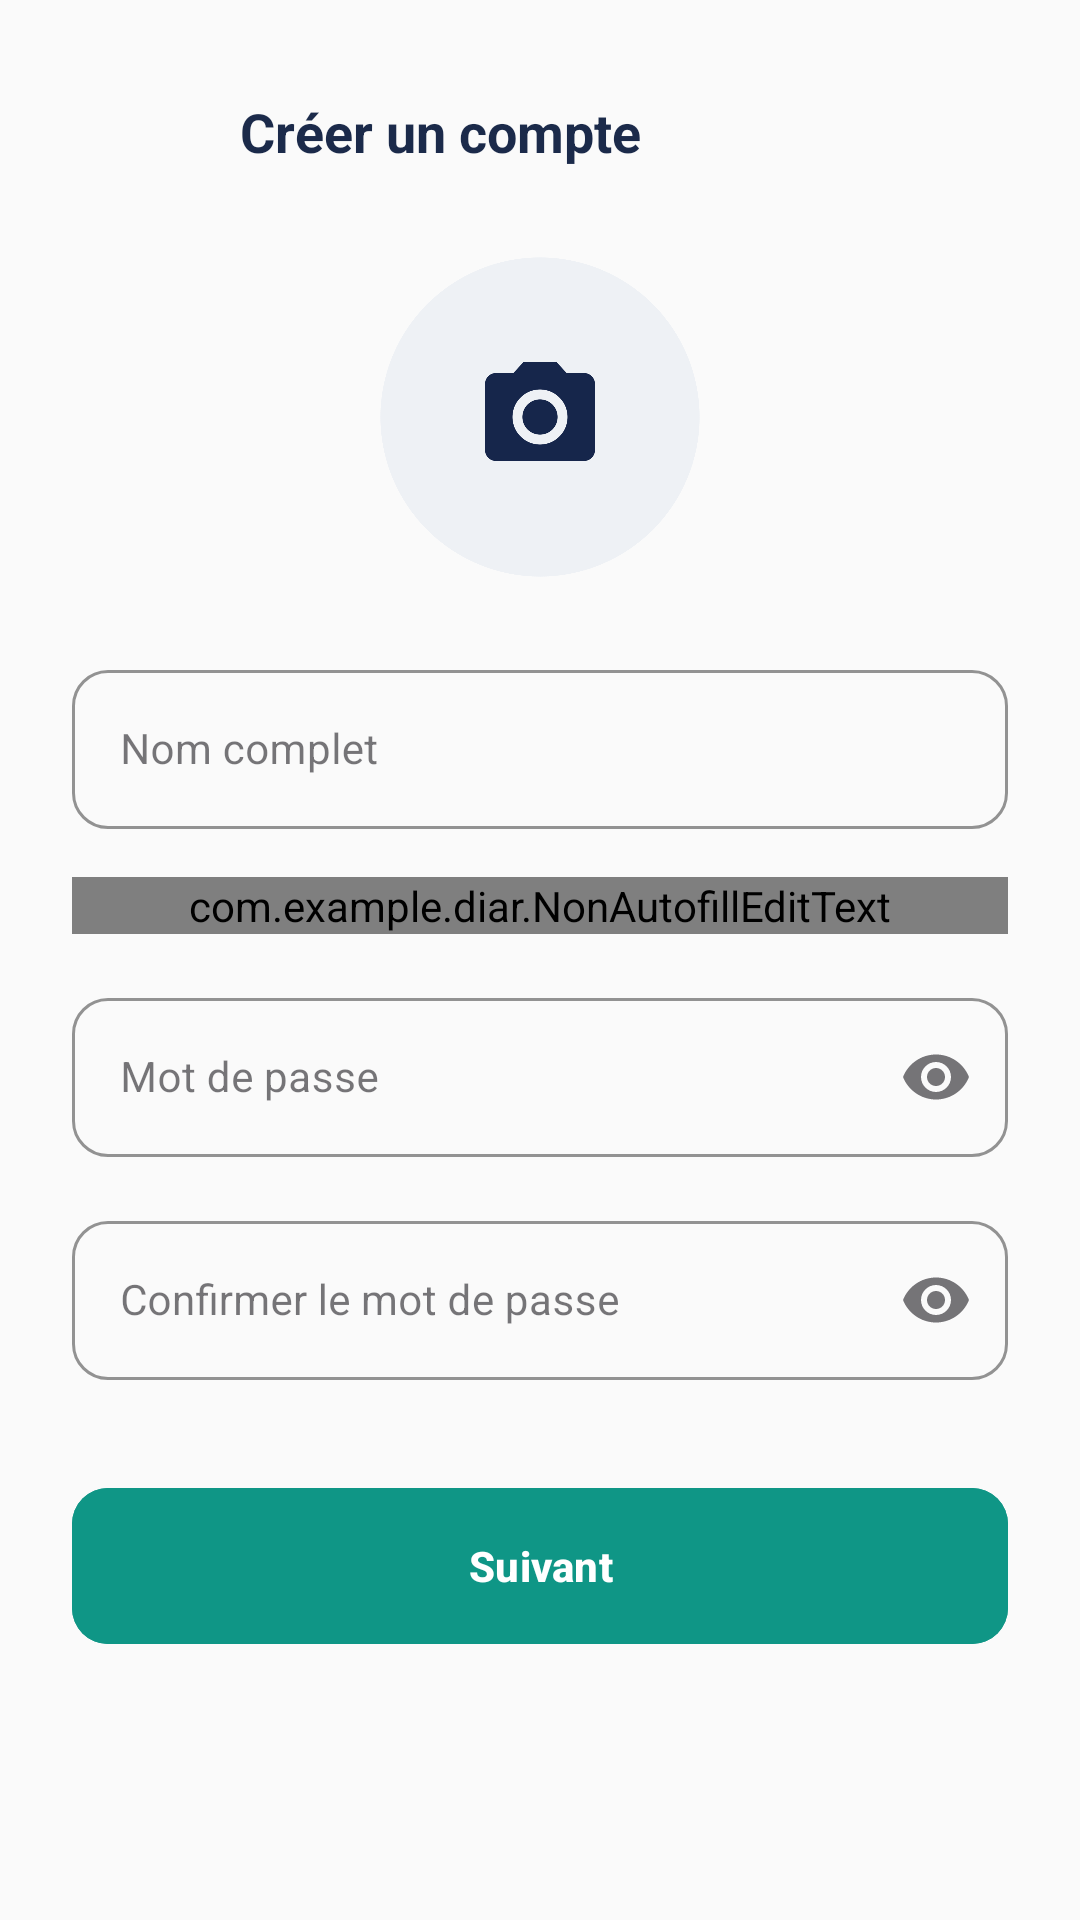

Named icons in this screenshot (1080 x 1920) and their bounding boxes, (x1, y1, x2, y2):
Choisir une photo de profil: (485, 362, 595, 461)
